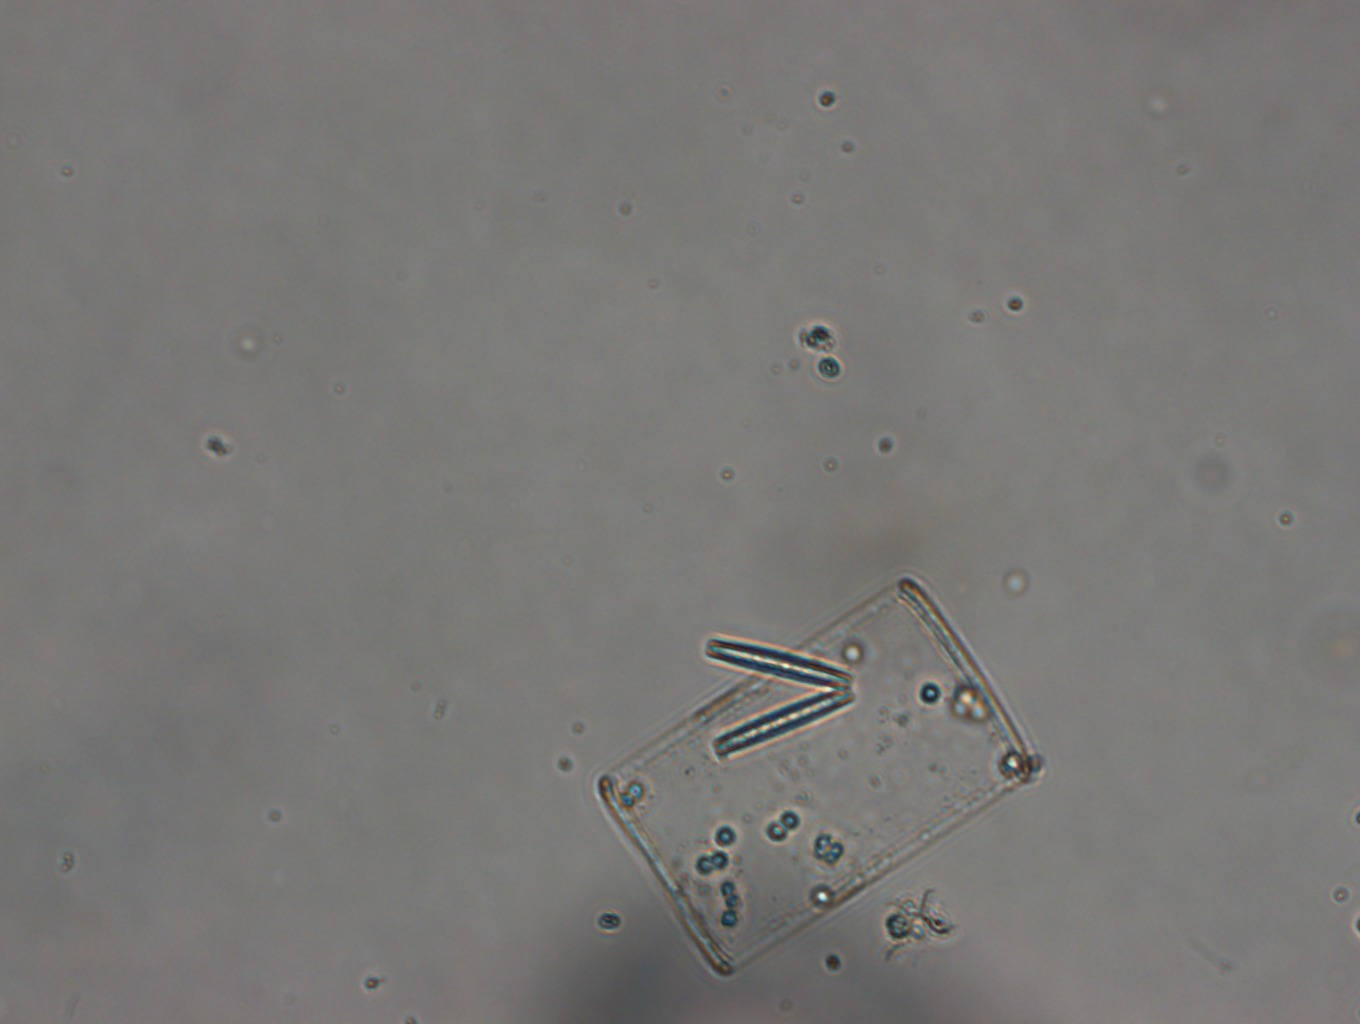guinardia flaccida: (573, 574, 1044, 976)
thalassionema frauenfeldii: (679, 624, 869, 754)
